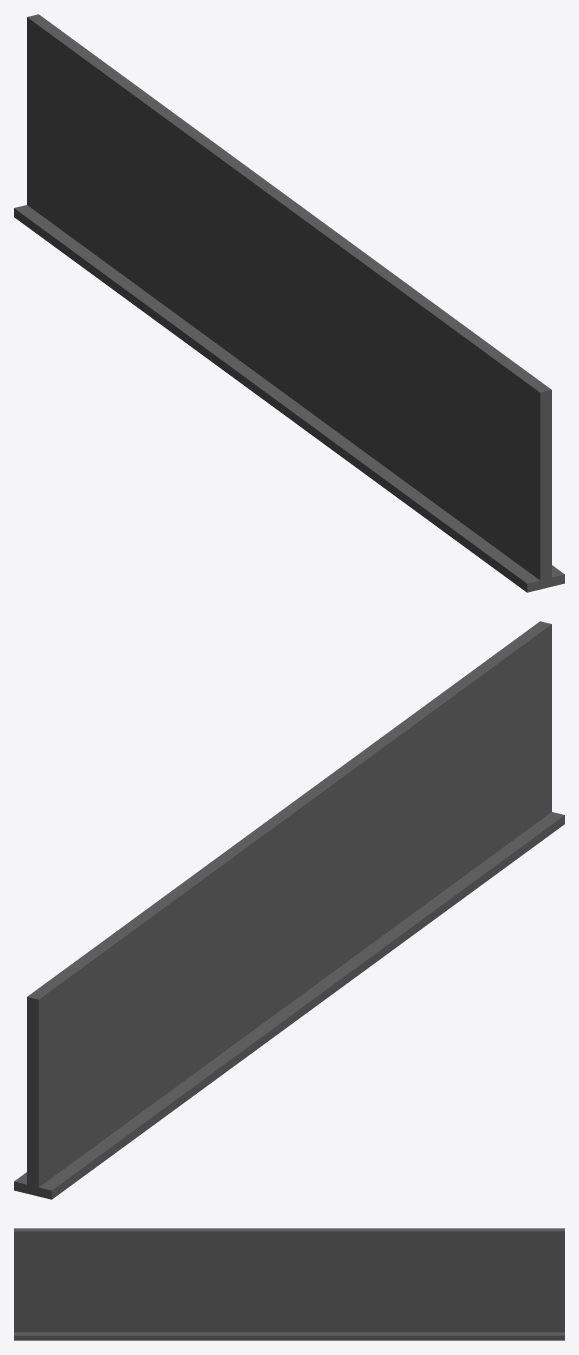
The model's file is SM_metal_support_02.fbx.
The picture shows the model from 3 angles, top to bottom: view 1: azimuth 30°, elevation 25°; view 2: azimuth 150°, elevation 25°; view 3: azimuth 270°, elevation 25°; orthographic projection. The views are drawn at different scales.
Visible parts, largest first — view 1: metal_support_02; view 2: metal_support_02; view 3: metal_support_02.
Boxes of the visible parts, box(x1,y1,x2,y2) form: metal_support_02: box(14, 14, 564, 592); metal_support_02: box(14, 621, 564, 1199); metal_support_02: box(14, 1228, 564, 1340).
Bounding box in the file's own units: 9.23 × 45.9 × 217.
